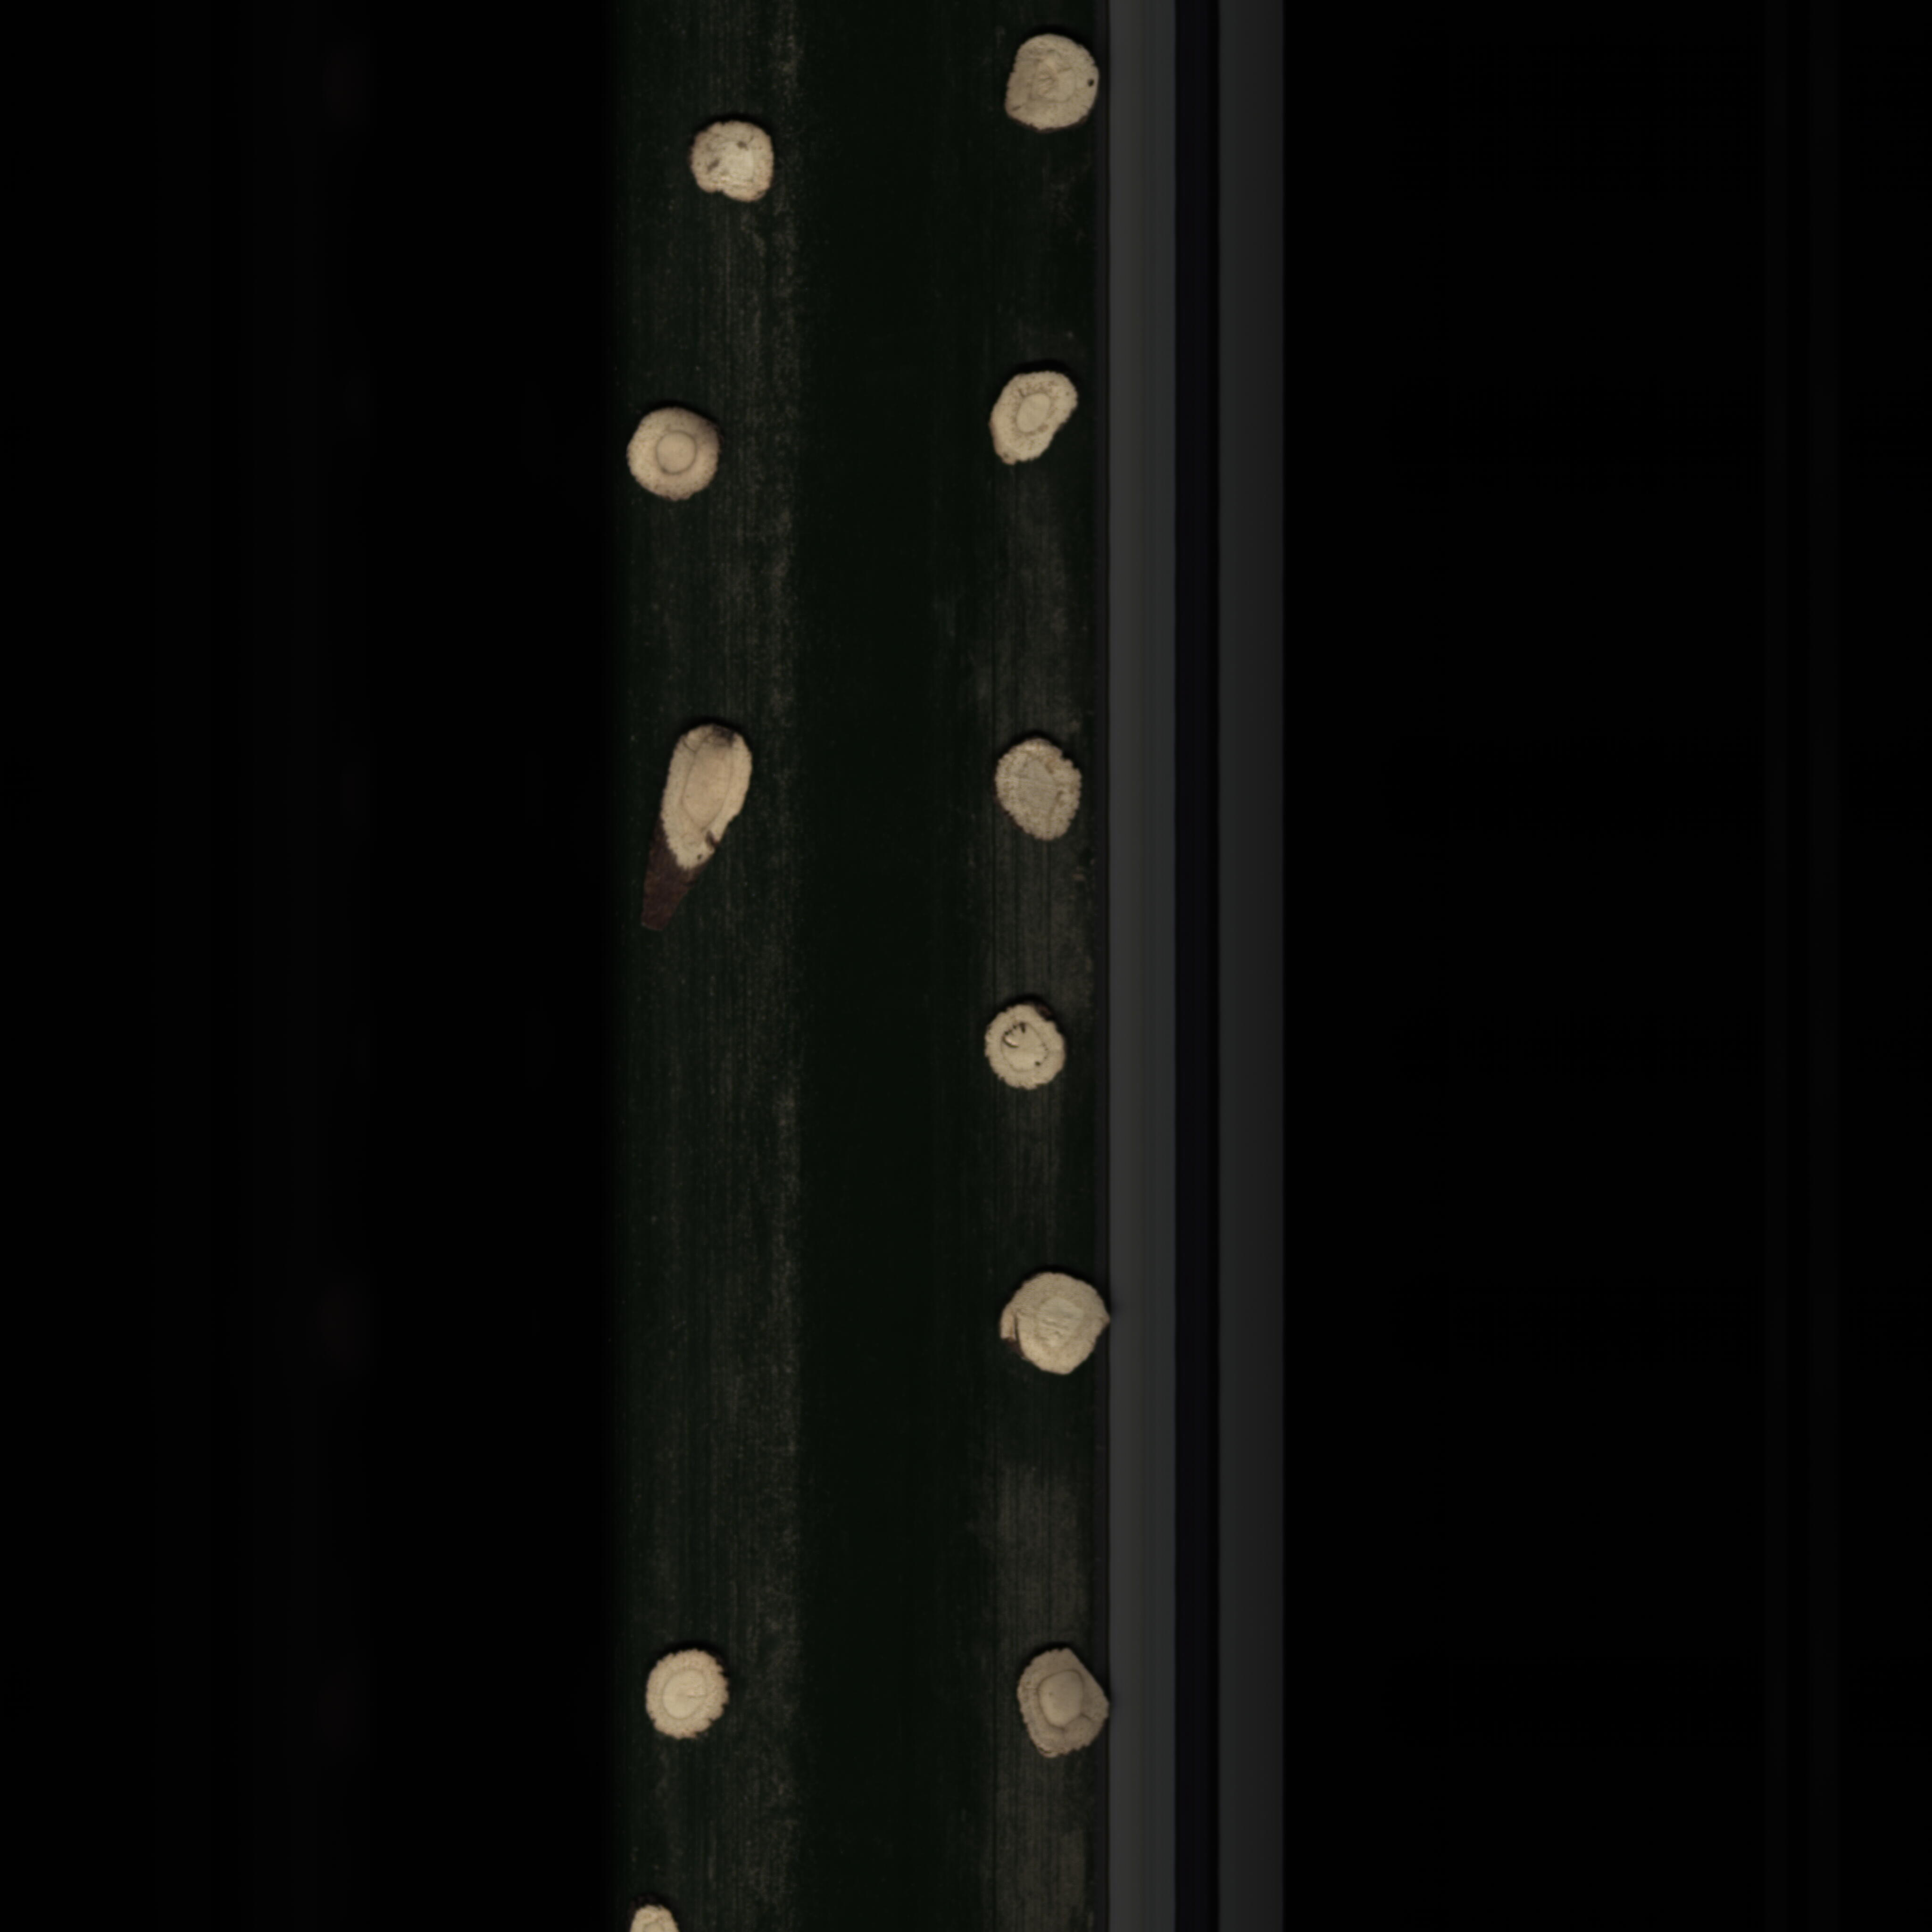debris: (1010, 1635, 1123, 1773)
hole: (977, 994, 1076, 1108)
moldy: (632, 708, 754, 939)
